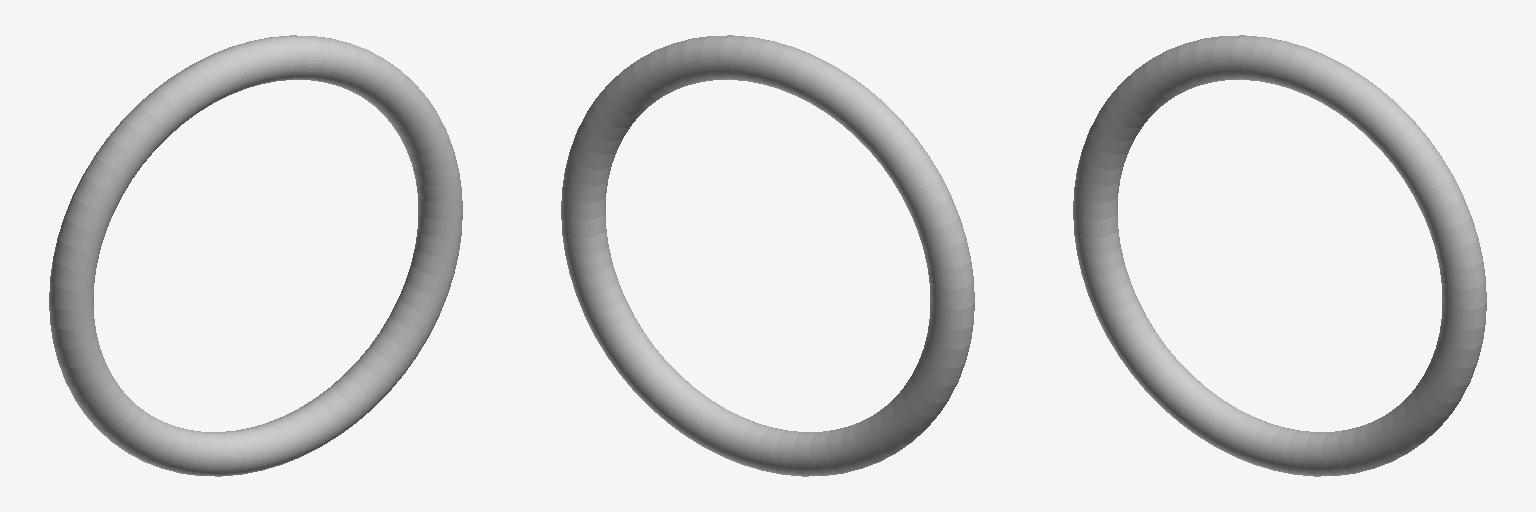
The model's file is Reticle3.obj.
3 views of the same model, side by side, from view 1: azimuth 30°, elevation 25°; view 2: azimuth 150°, elevation 25°; view 3: azimuth 330°, elevation 25° (orthographic).
Visible parts, largest first — view 1: トーラス.003; view 2: トーラス.003; view 3: トーラス.003.
Part boxes in pixels (bbox=[...]): トーラス.003: bbox=[49, 35, 462, 476]; トーラス.003: bbox=[561, 35, 974, 476]; トーラス.003: bbox=[1073, 35, 1486, 476].
Size of the model in its own units: 3.6 by 3.6 by 0.34.